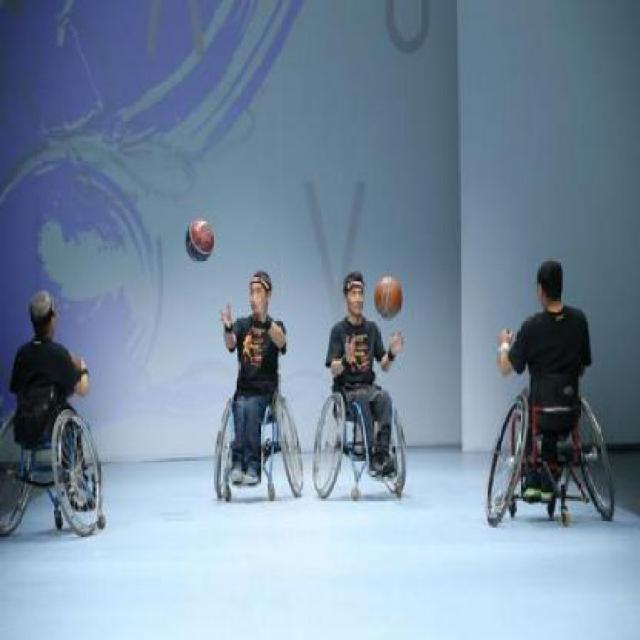peopleWithWheelchair: (488, 259, 615, 538), (0, 288, 108, 554), (210, 267, 304, 516), (314, 274, 412, 508)
